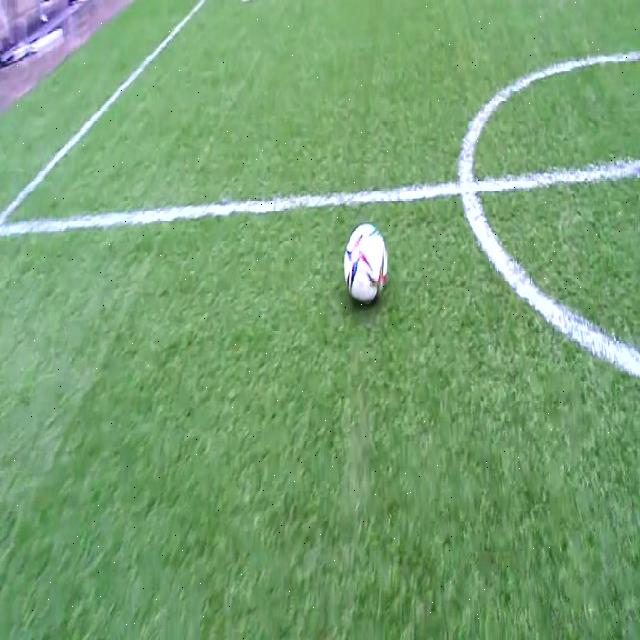ball: (344, 223, 387, 302)
